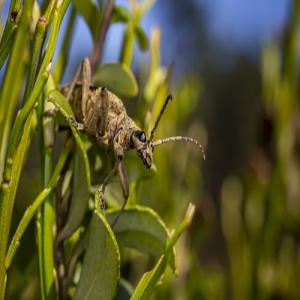locust: (56, 50, 167, 175)
